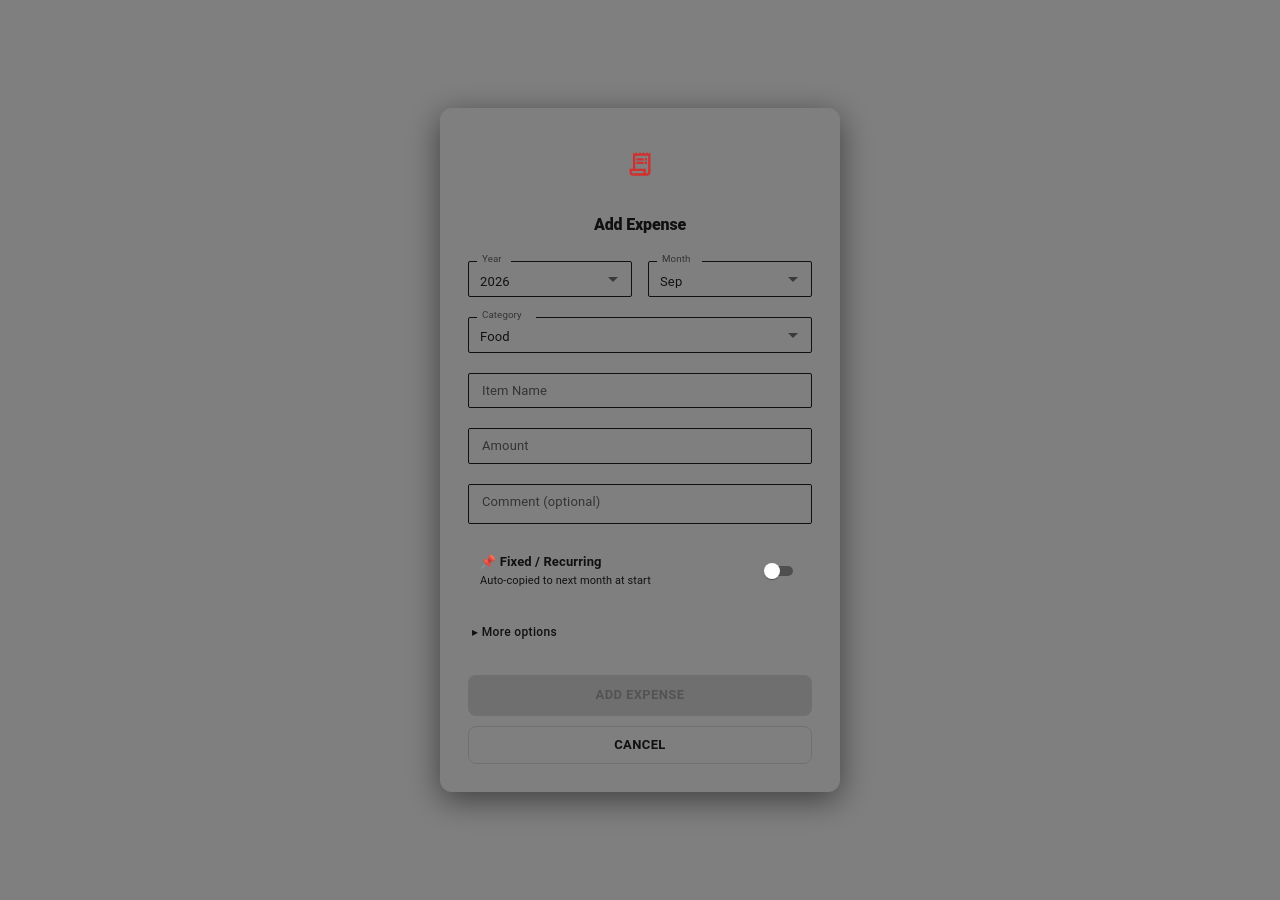
AddExpenseModal More options › starts collapsed and names a non-default apply mode on the toggle
Later steps or results of the test are not shown.
Click the button "▸ More options": [515, 632] box [468, 618, 561, 647]
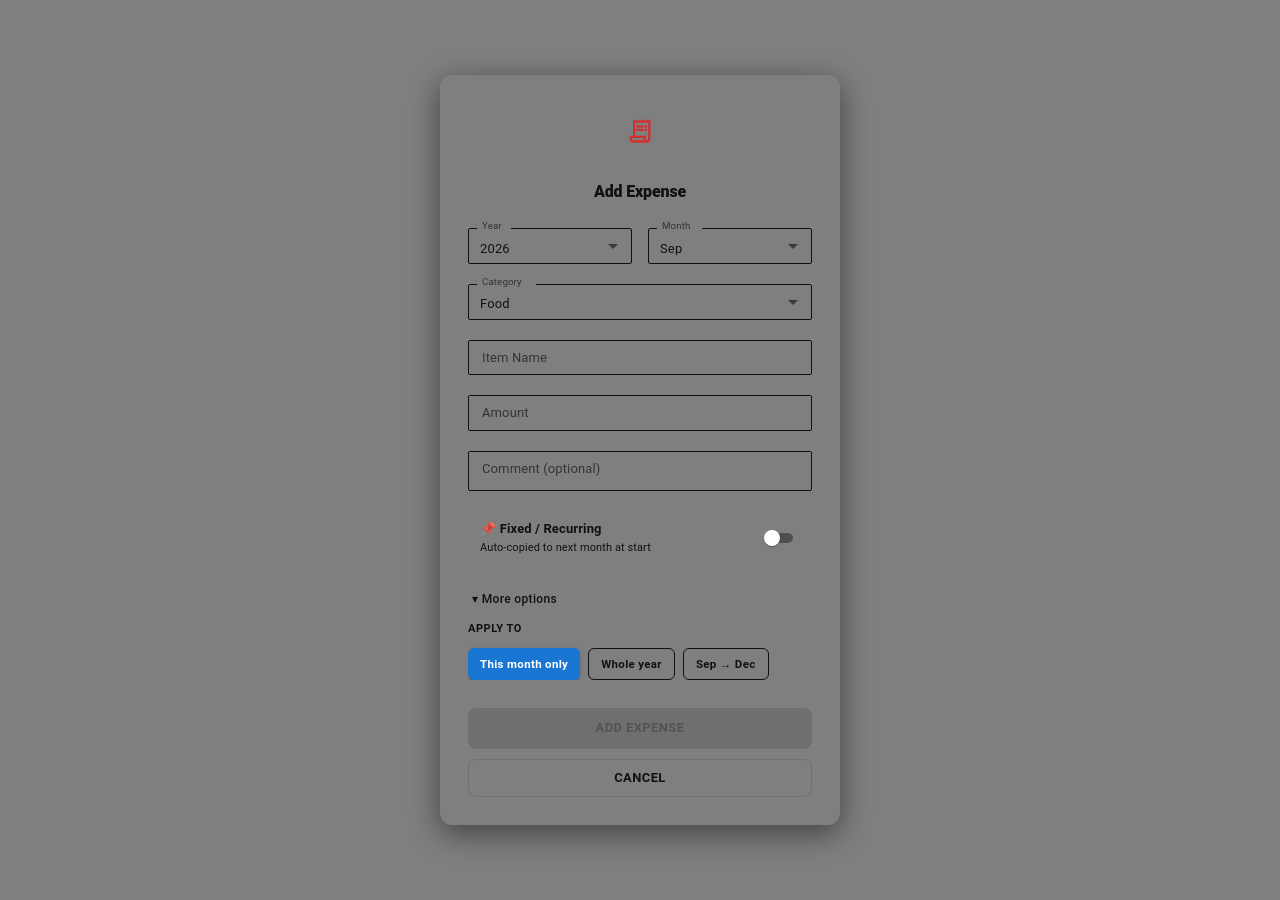
Expected: the button "▾ More options" is expanded, [468, 585, 561, 614]
Click the button "Whole year": [632, 664] box [588, 648, 675, 680]
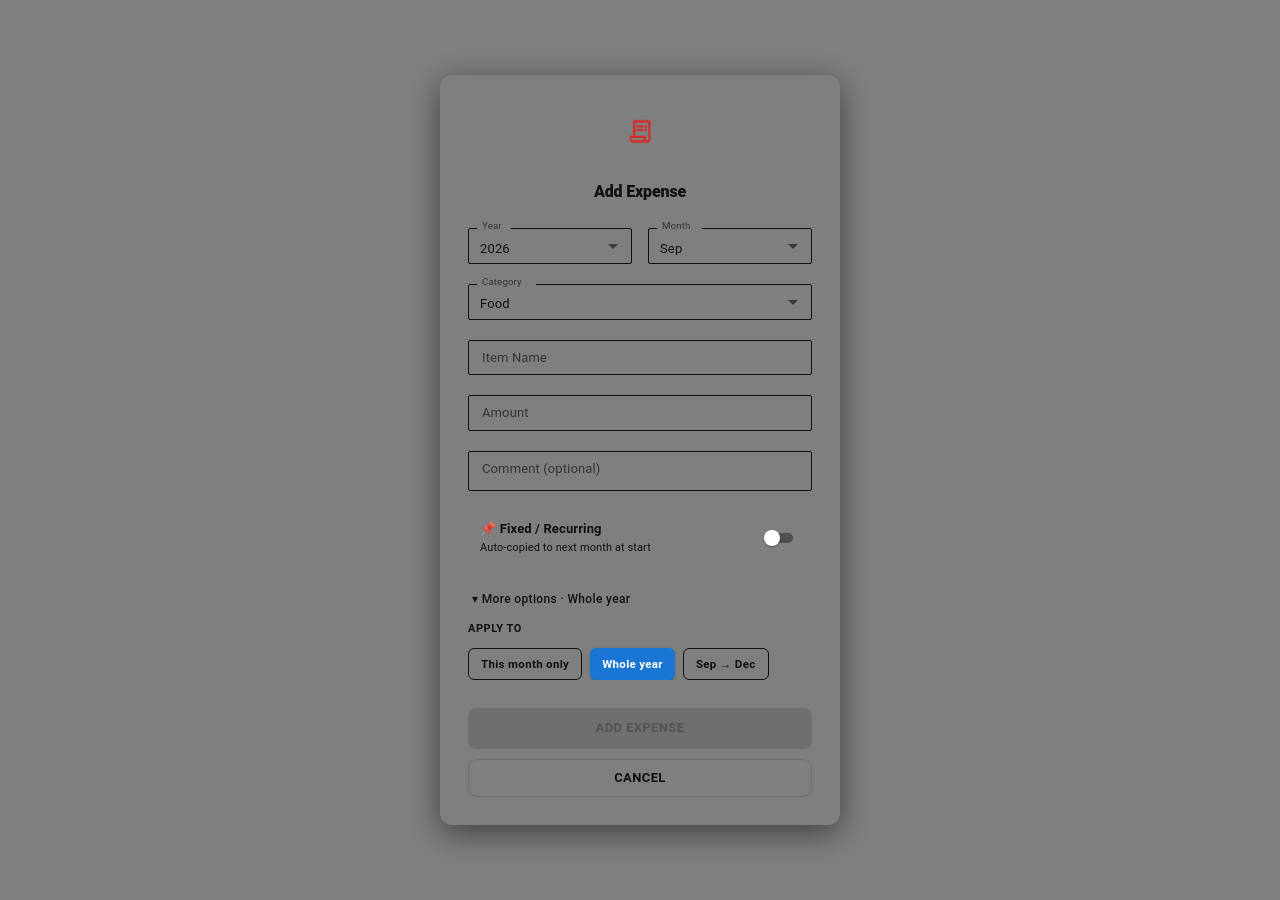
Click the button "▾ More options · Whole year": [551, 599] box [468, 585, 634, 614]
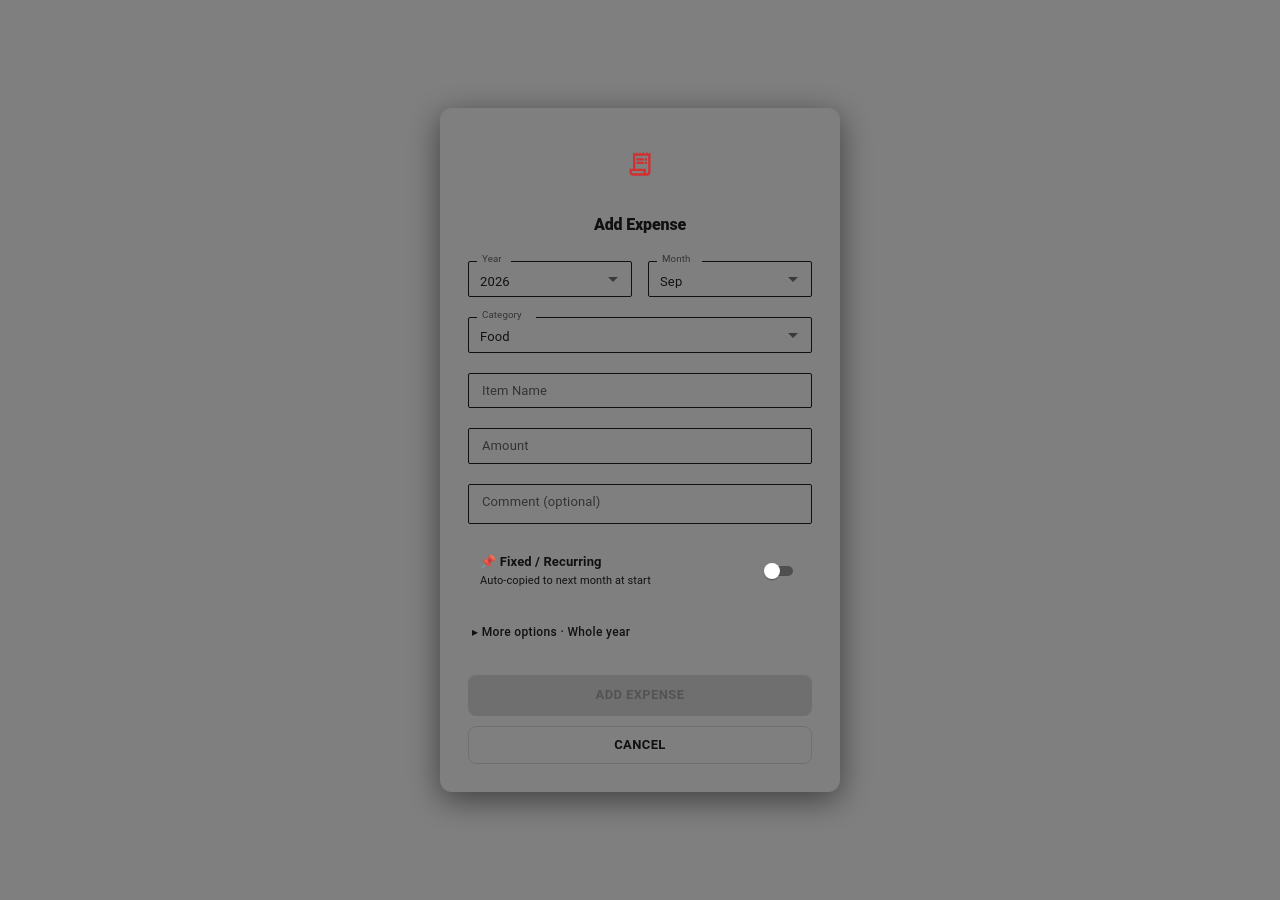
Expected: the button "▸ More options · Whole year" is shown, [468, 618, 634, 647]
Expected: the button "▸ More options · Whole year" is collapsed, [468, 618, 634, 647]
